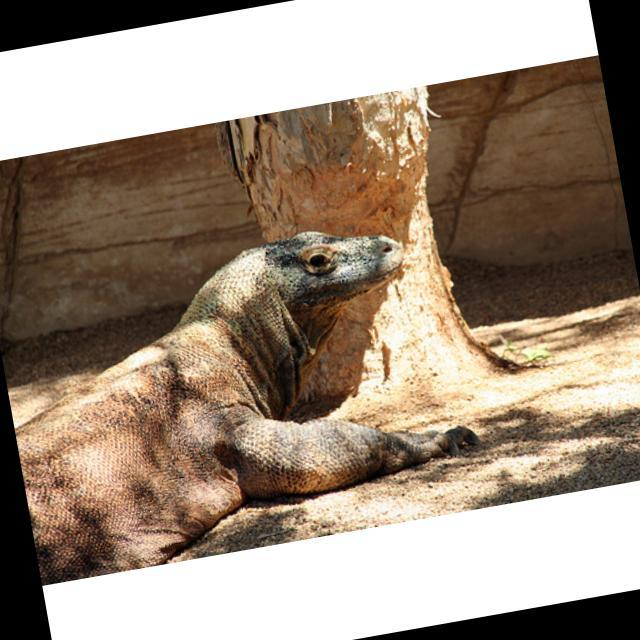KomodoDragon: (0, 207, 489, 583)
